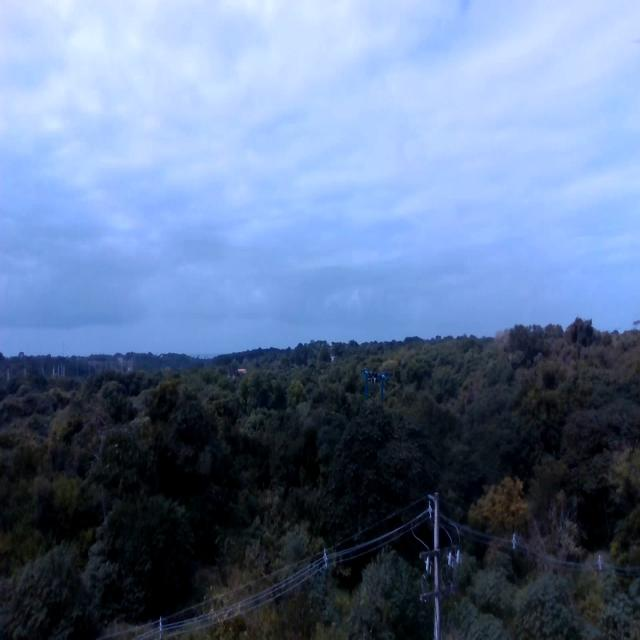-uav-: (360, 362, 394, 407)
